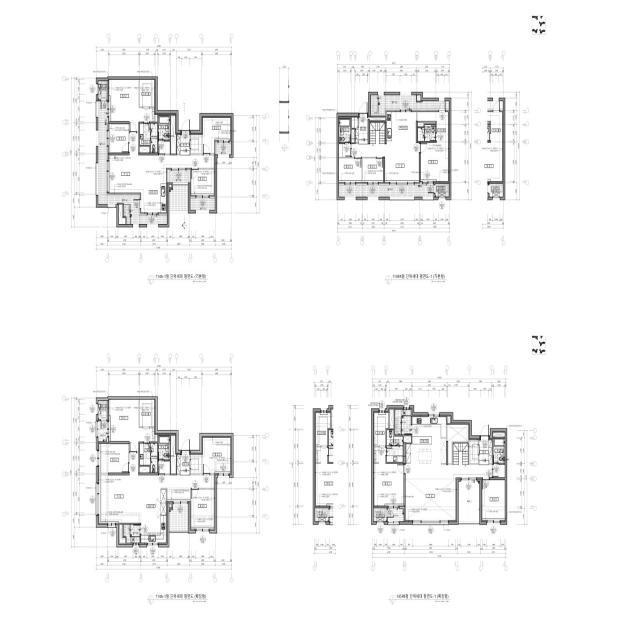space_balconi: (98, 101, 167, 224), (371, 95, 449, 114), (339, 184, 434, 197), (459, 481, 479, 522), (169, 506, 188, 531), (169, 186, 188, 211), (395, 410, 411, 435), (123, 525, 140, 543), (190, 198, 215, 210), (169, 171, 188, 183), (388, 509, 404, 522), (216, 143, 231, 155), (98, 421, 107, 441)
space_bedroom: (109, 400, 154, 452), (109, 80, 154, 132), (374, 447, 404, 506), (421, 143, 449, 181), (203, 117, 231, 153), (203, 437, 231, 473), (191, 490, 215, 529), (482, 480, 505, 520), (99, 444, 128, 473), (191, 170, 215, 196), (339, 158, 362, 182), (109, 124, 128, 153), (363, 158, 383, 182)
space_dressroom: (417, 112, 449, 143), (374, 413, 389, 446), (140, 80, 155, 107), (140, 400, 155, 427)
space_front: (355, 118, 368, 144), (479, 440, 492, 465), (177, 133, 190, 155), (177, 455, 190, 475)
space_kitchen: (406, 417, 446, 464), (141, 489, 166, 543), (141, 170, 166, 213), (386, 112, 416, 143)
space_living_room: (99, 453, 215, 523), (107, 132, 215, 194), (405, 464, 492, 520), (352, 143, 419, 182)
space_other: (448, 425, 469, 463), (453, 443, 469, 465), (370, 122, 385, 144), (167, 488, 190, 501), (469, 440, 478, 464), (191, 134, 202, 153), (191, 455, 202, 473), (171, 116, 176, 154), (171, 436, 176, 474), (158, 461, 170, 474), (158, 141, 170, 154), (339, 144, 351, 157), (493, 465, 505, 477), (119, 205, 125, 224), (119, 525, 125, 544), (418, 122, 436, 127), (390, 410, 394, 428), (352, 117, 358, 128), (370, 117, 385, 121), (139, 147, 149, 153), (404, 436, 411, 443), (493, 433, 505, 437), (352, 130, 354, 143), (447, 417, 450, 423), (155, 114, 157, 122), (155, 434, 157, 442), (169, 504, 171, 507), (169, 185, 171, 187)
space_outdoor_room: (374, 508, 387, 522), (435, 184, 449, 197), (98, 81, 107, 100), (98, 401, 107, 420)
space_toilet: (139, 443, 157, 473), (387, 430, 403, 462), (140, 124, 157, 153), (493, 438, 505, 463), (158, 436, 170, 460), (158, 116, 170, 140), (418, 125, 435, 141), (339, 119, 350, 142)
